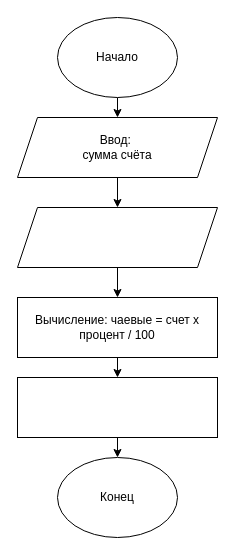
Some shapes in this 235 by 555 pixel diagram are drawn without their labels. The shapes that lost their labels are listed below. From the top down, each one's centre as x and y in pixels, then its label:
[117,237]: Ввод: процент чаевых
[117,407]: Вычесление: итого = счет + чаевые
